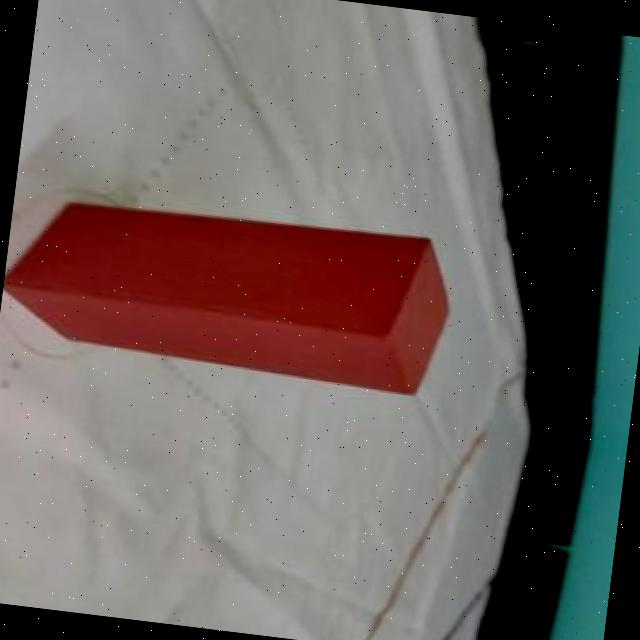redbox: (0, 187, 458, 399)
